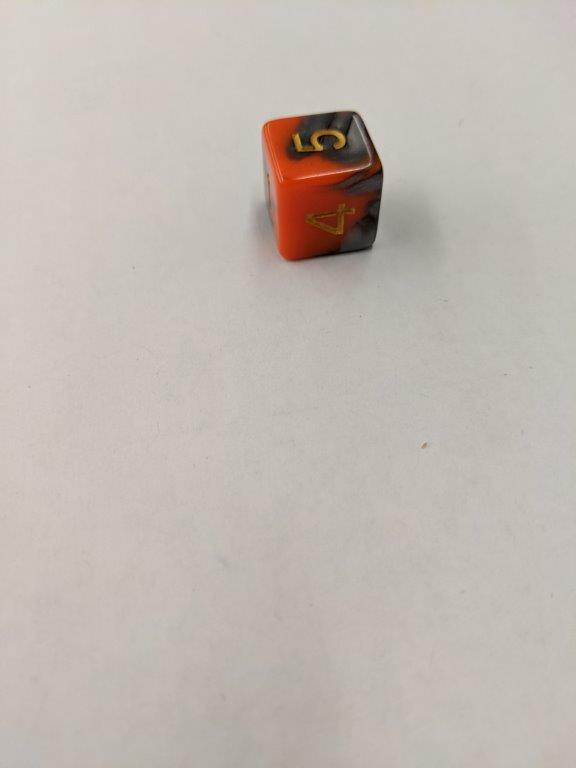d6-5: (259, 109, 385, 261)
